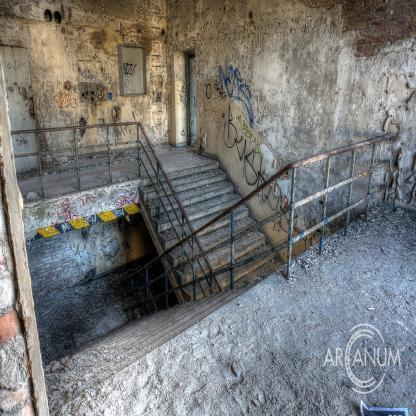stair: (144, 152, 287, 290)
